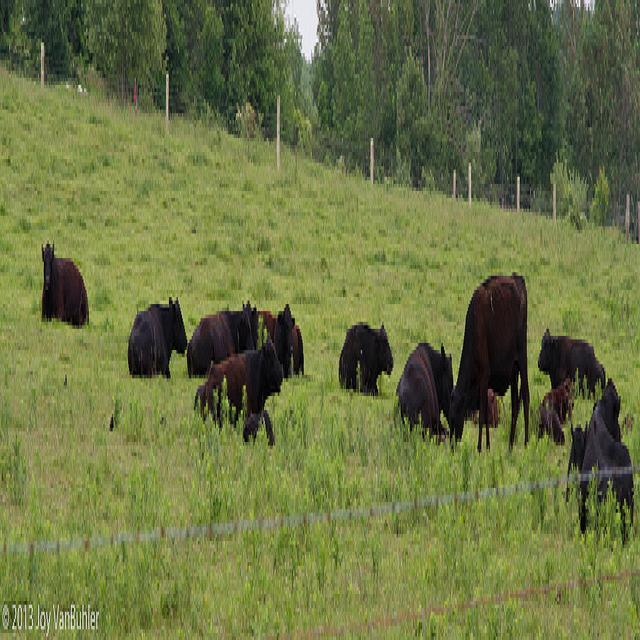cow: (255, 287, 605, 456), (450, 265, 529, 456), (193, 329, 283, 445), (579, 368, 633, 534), (393, 339, 452, 442), (185, 297, 258, 371), (126, 294, 186, 379), (39, 234, 88, 326), (338, 318, 392, 389), (536, 322, 575, 385), (272, 297, 304, 371), (564, 414, 588, 495), (540, 372, 574, 418), (575, 336, 596, 396)
